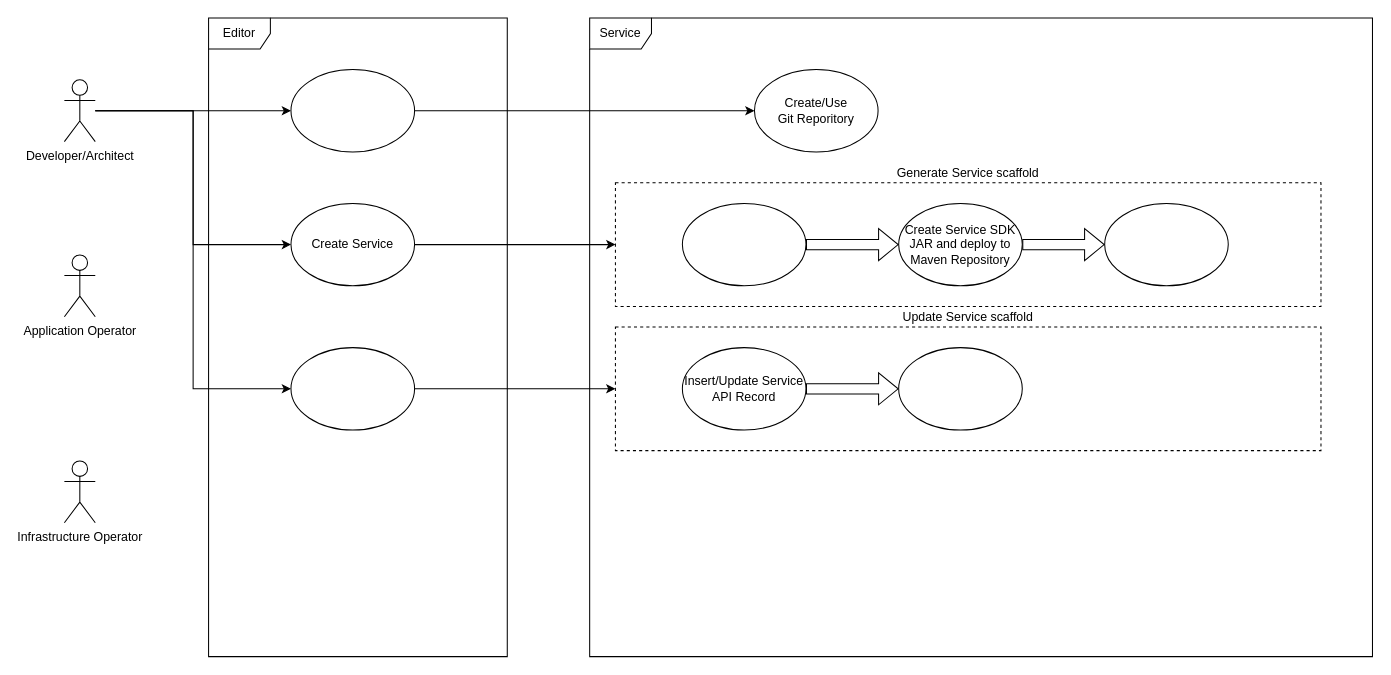
The diagram is 1391 pixels wide and 675 high, and some of its shapes have lost their labels. The centre of each missing label's shape, as x and y in pixels:
Create Application: (352,110)
Create Service file structure in Git Repository: (1166,244)
Define Service API: (352,388)
Insert Service Record: (743,244)
Update Service SDK and deploy to Maven Repository: (960,388)
